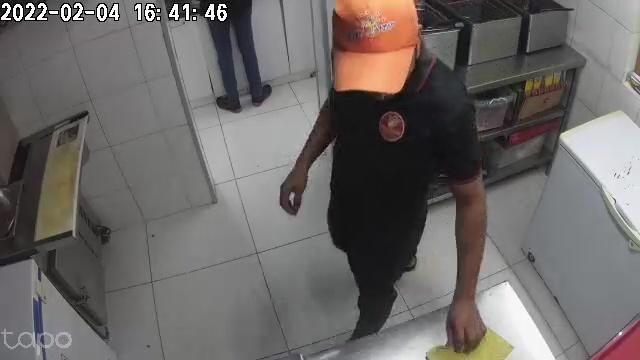no_gloves: (280, 154, 311, 217)
